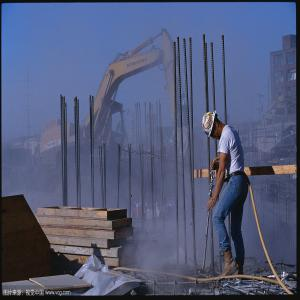white: (202, 110, 222, 142)
